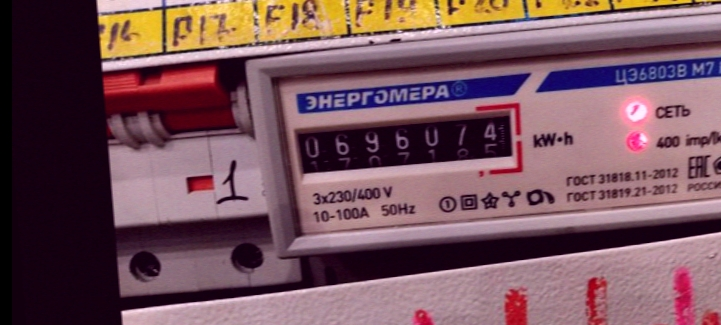0: (301, 133, 322, 158), (423, 122, 441, 148)
4: (481, 117, 498, 140)
5: (484, 142, 501, 158)
6: (394, 124, 413, 151), (333, 131, 352, 156)
7: (453, 120, 472, 146)
9: (363, 127, 381, 154)
screen: (284, 98, 529, 186)
